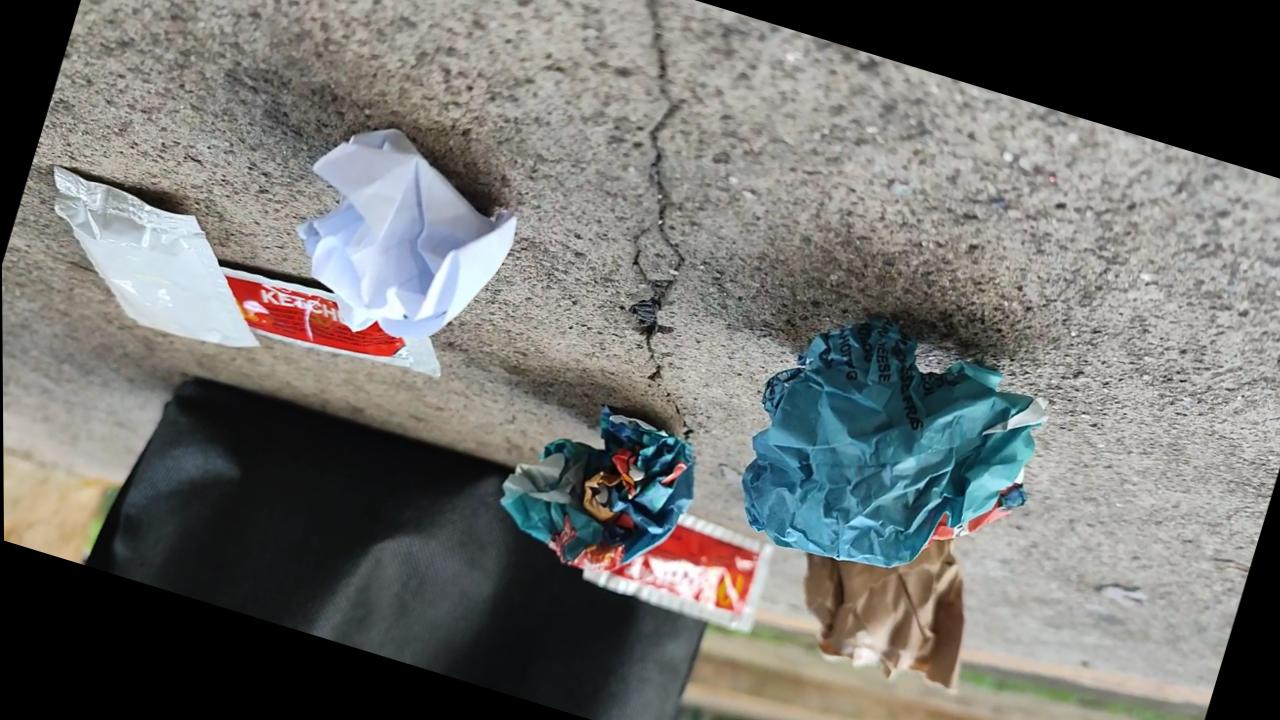paper: (742, 318, 1047, 567), (230, 129, 514, 375), (502, 409, 692, 592), (787, 538, 963, 686)
